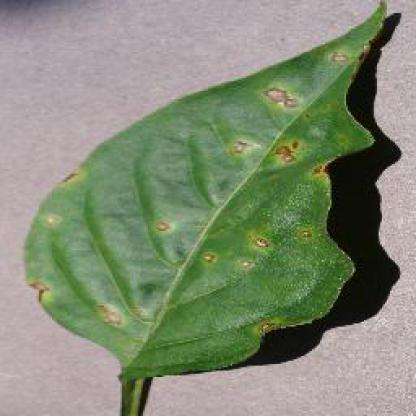bad leaf: (34, 0, 410, 415)
